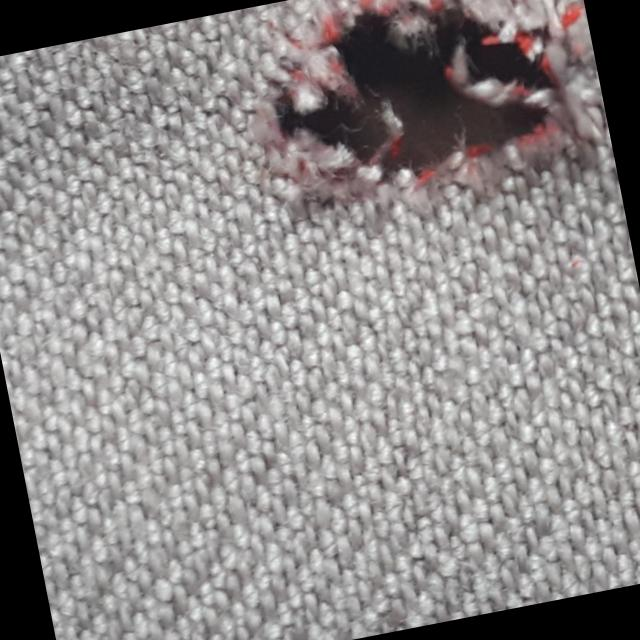hole: (233, 0, 610, 233)
